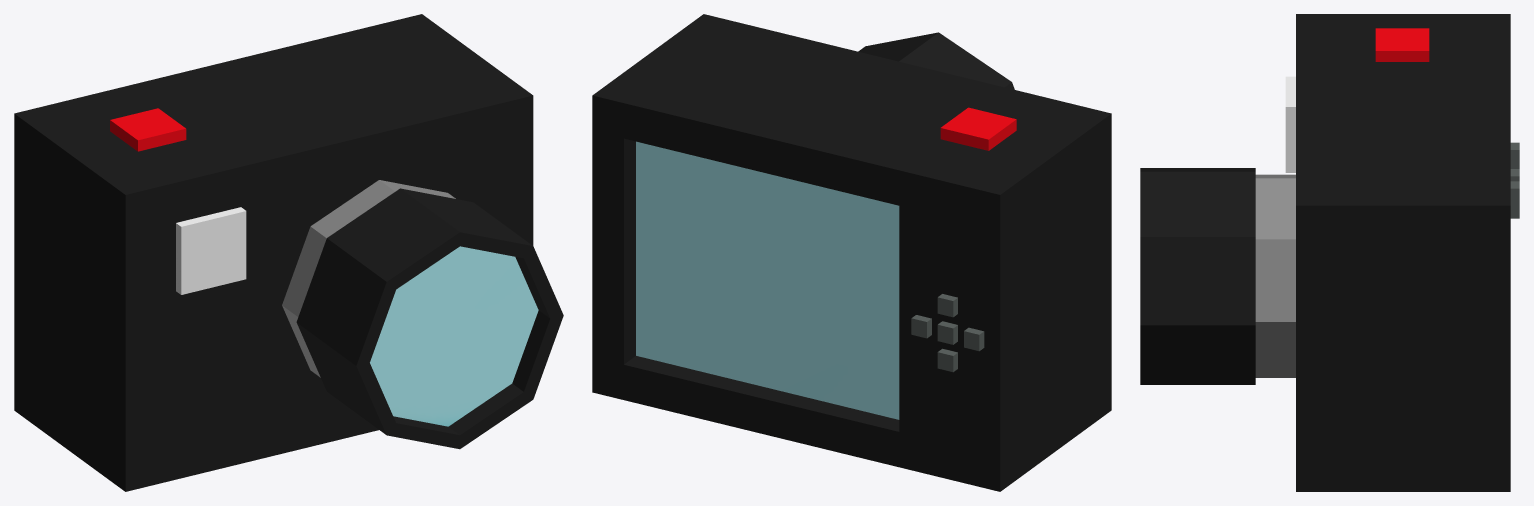
The model's file is camara-lowpoly.fbx.
3 views of the same model, side by side, from view 1: azimuth 30°, elevation 25°; view 2: azimuth 150°, elevation 25°; view 3: azimuth 270°, elevation 25° (orthographic). The views are drawn at different scales.
Parts seen in each view (by area): view 1: Cube; view 2: Cube; view 3: Cube.
Part boxes in pixels (x1=…): Cube: x1=14, y1=14, x2=563, y2=491; Cube: x1=592, y1=14, x2=1111, y2=491; Cube: x1=1140, y1=14, x2=1519, y2=491.
Size of the model in its own units: 419 by 303 by 351.
